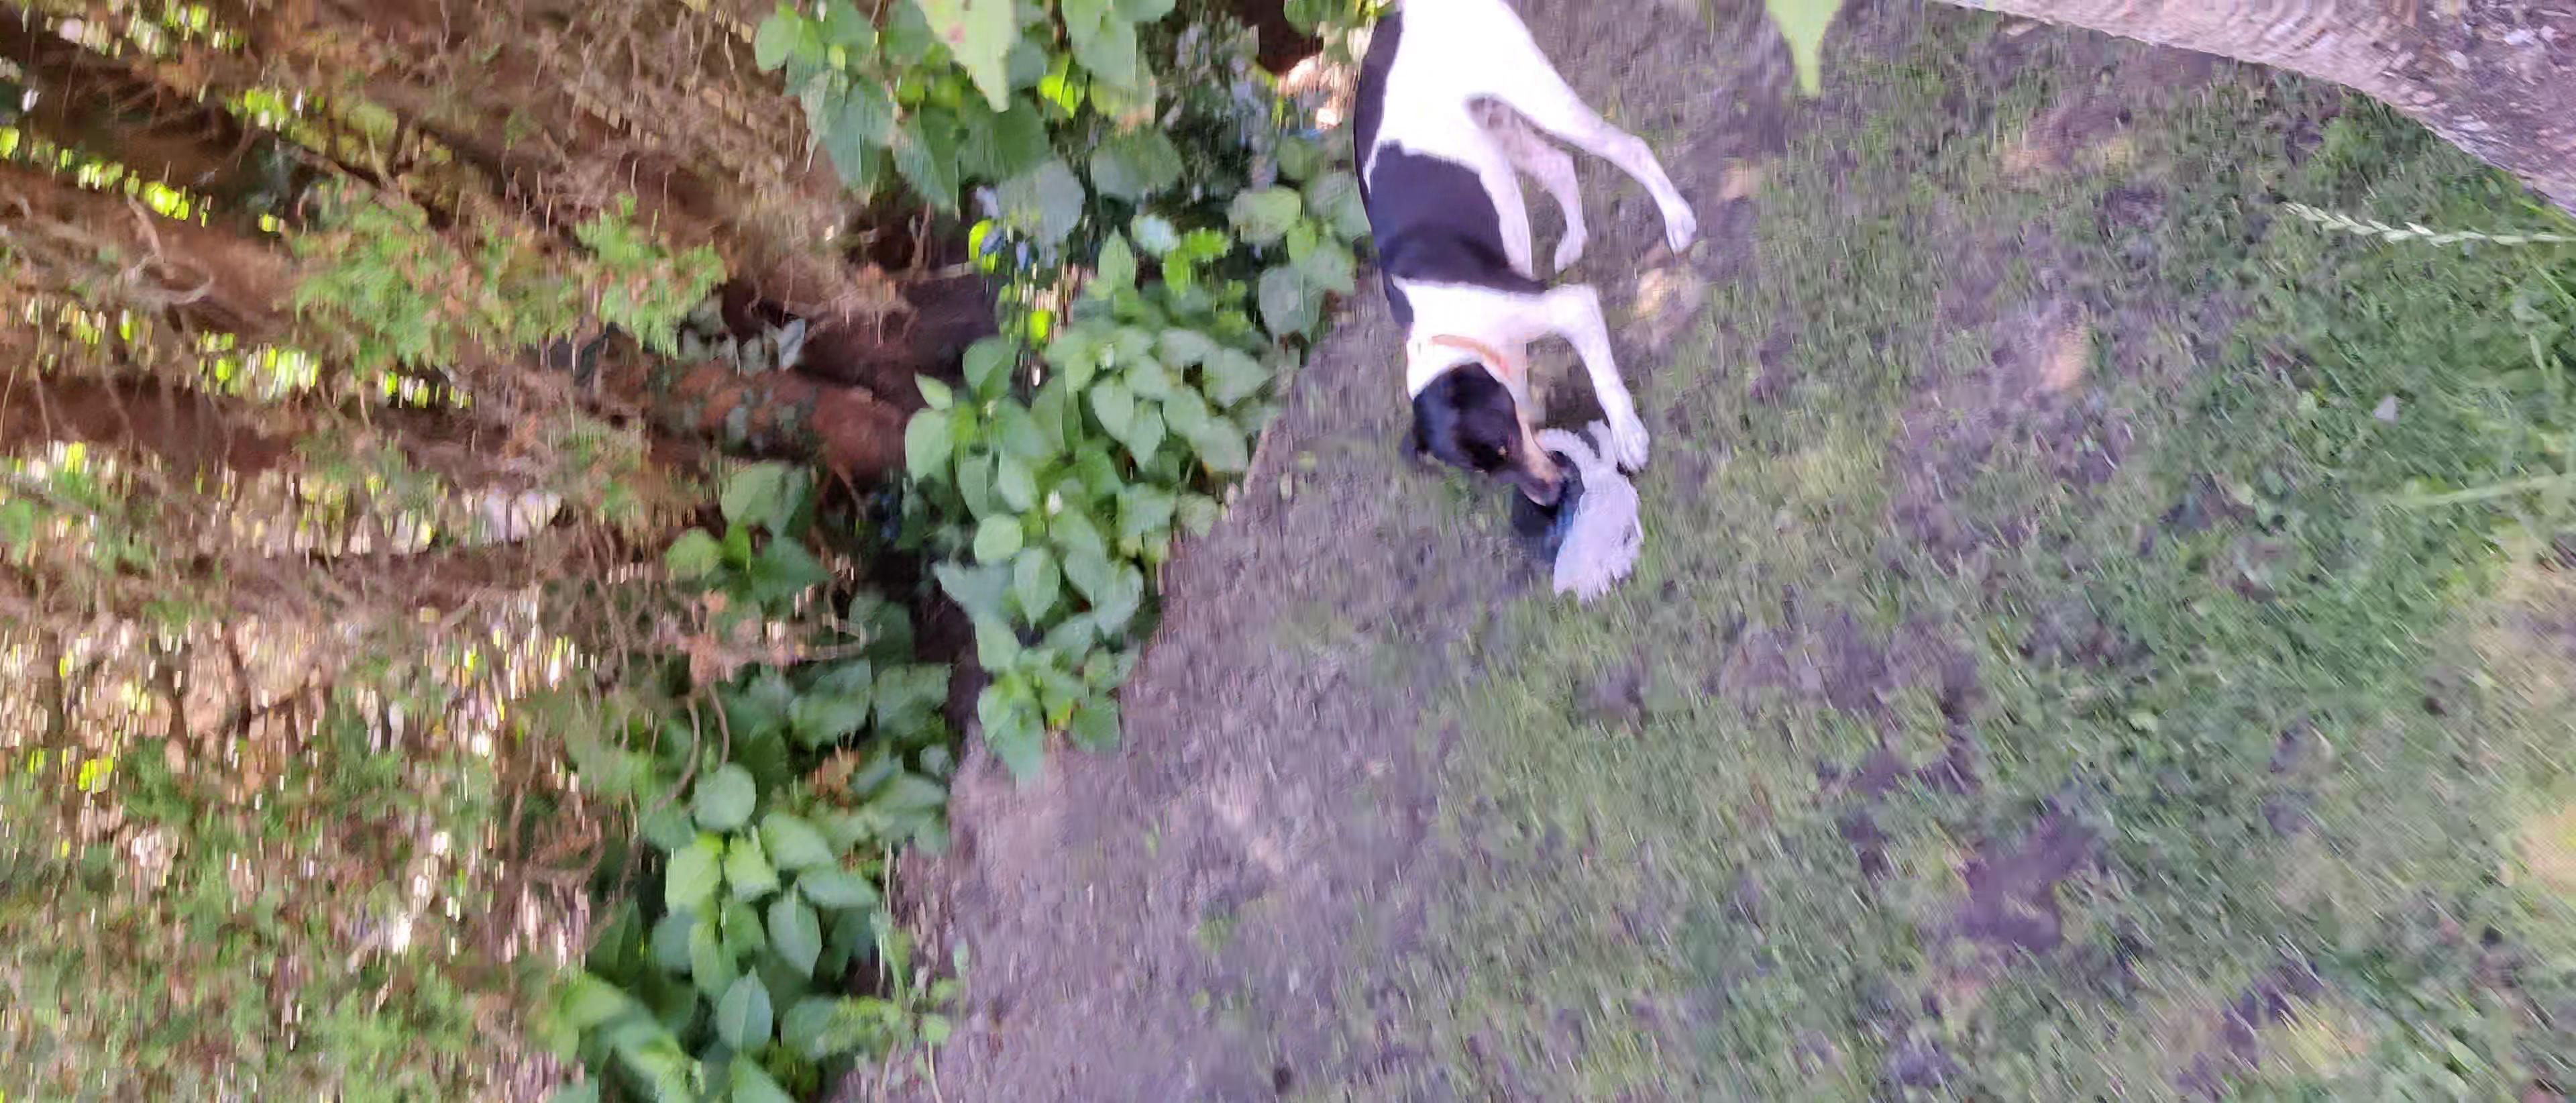Dog: (1339, 0, 1718, 516)
